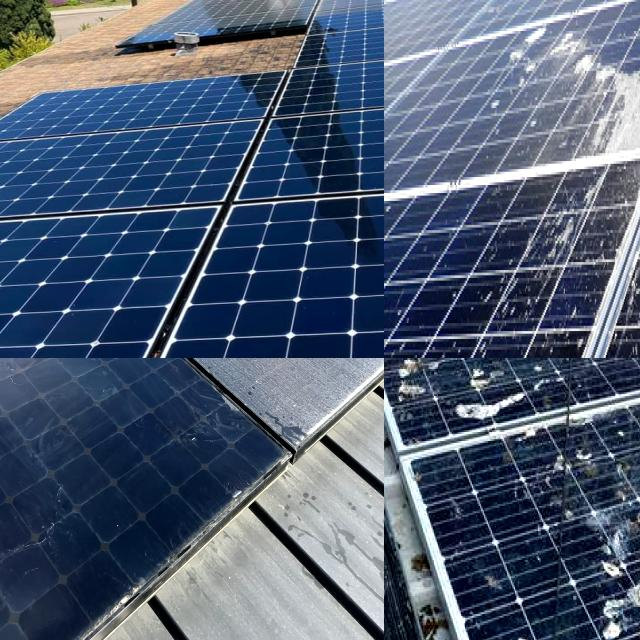bird: (575, 44, 640, 143), (446, 362, 538, 430), (502, 13, 560, 88), (595, 544, 640, 640), (526, 190, 584, 254), (397, 358, 435, 425), (524, 358, 601, 390), (552, 434, 598, 485), (467, 358, 516, 398), (384, 358, 444, 387), (436, 358, 486, 387), (384, 358, 425, 390), (497, 358, 547, 379), (500, 622, 558, 640), (630, 485, 640, 548), (584, 546, 596, 564)
crack: (0, 201, 262, 358), (169, 177, 384, 358), (0, 114, 303, 226), (0, 74, 315, 142), (252, 102, 384, 245), (254, 29, 384, 122), (273, 2, 384, 62)
dust: (50, 358, 225, 496), (0, 358, 73, 589), (44, 514, 148, 584), (119, 358, 260, 405), (249, 358, 384, 392), (279, 358, 354, 409), (234, 358, 272, 398), (182, 358, 228, 366)
